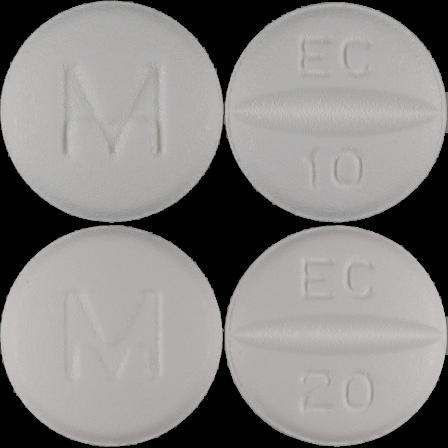10544-968: (0, 0, 224, 224)
